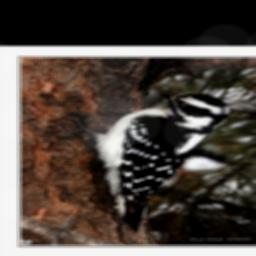Woodpecker: (69, 94, 231, 237)
